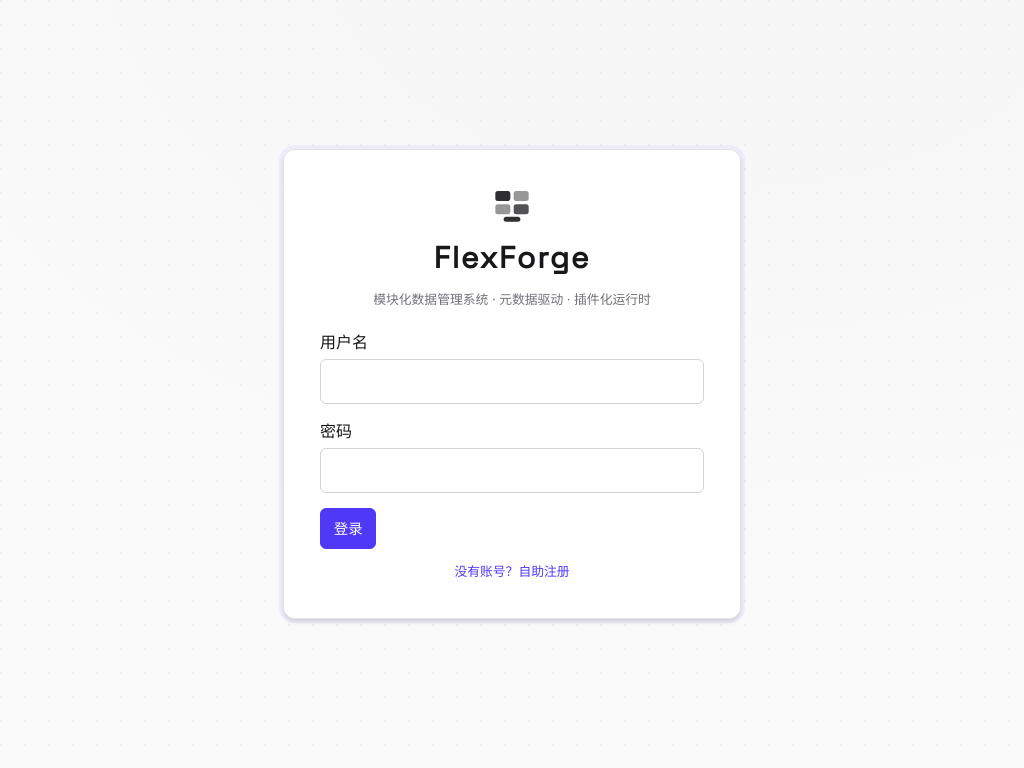
Test: LoginView 登录/注册切换（P13） › 注册失败在表单内提示（不跳转）
Click the link "没有账号？自助注册". click: (512, 571)
box: left=454, top=564, right=570, bottom=579
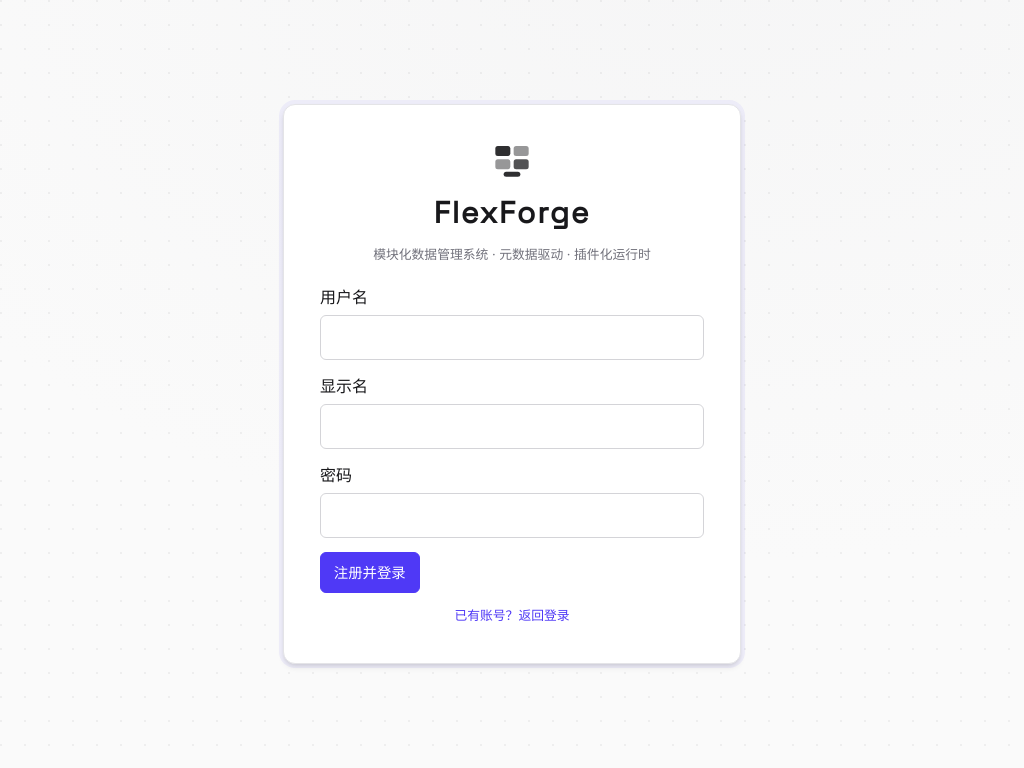
Type "newbie" into the field named "username". click: (512, 337)
box: left=320, top=314, right=704, bottom=360
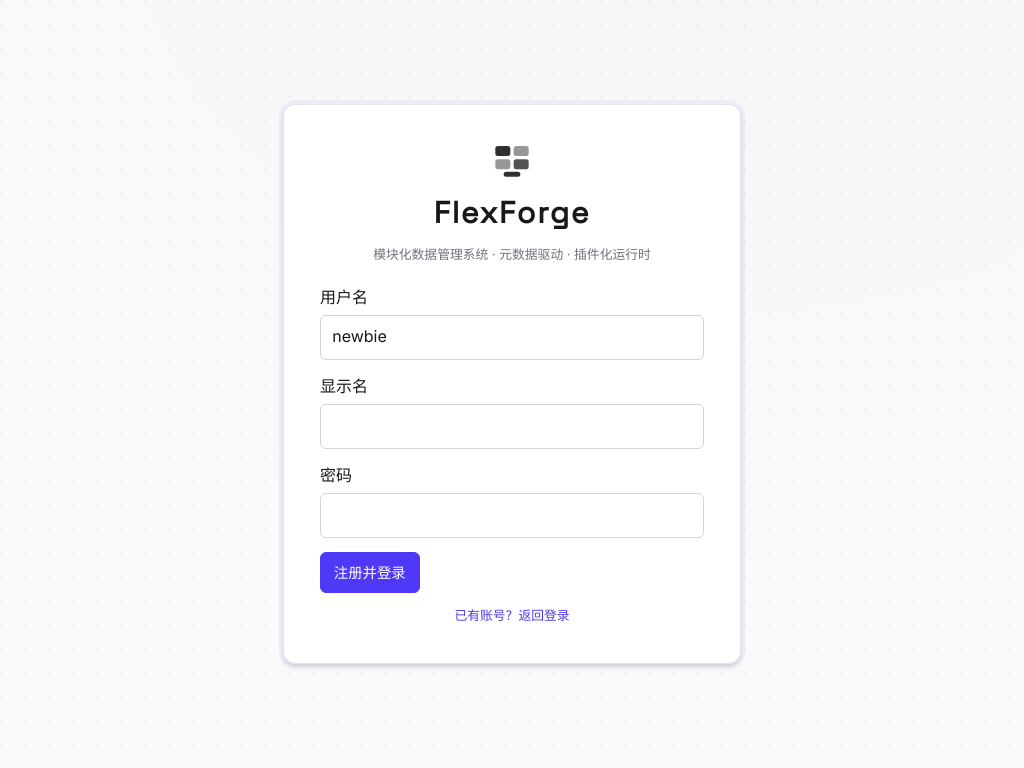
Type "Whatever-Pass-9" into the password field named "password". click: (512, 515)
box: left=320, top=493, right=704, bottom=538
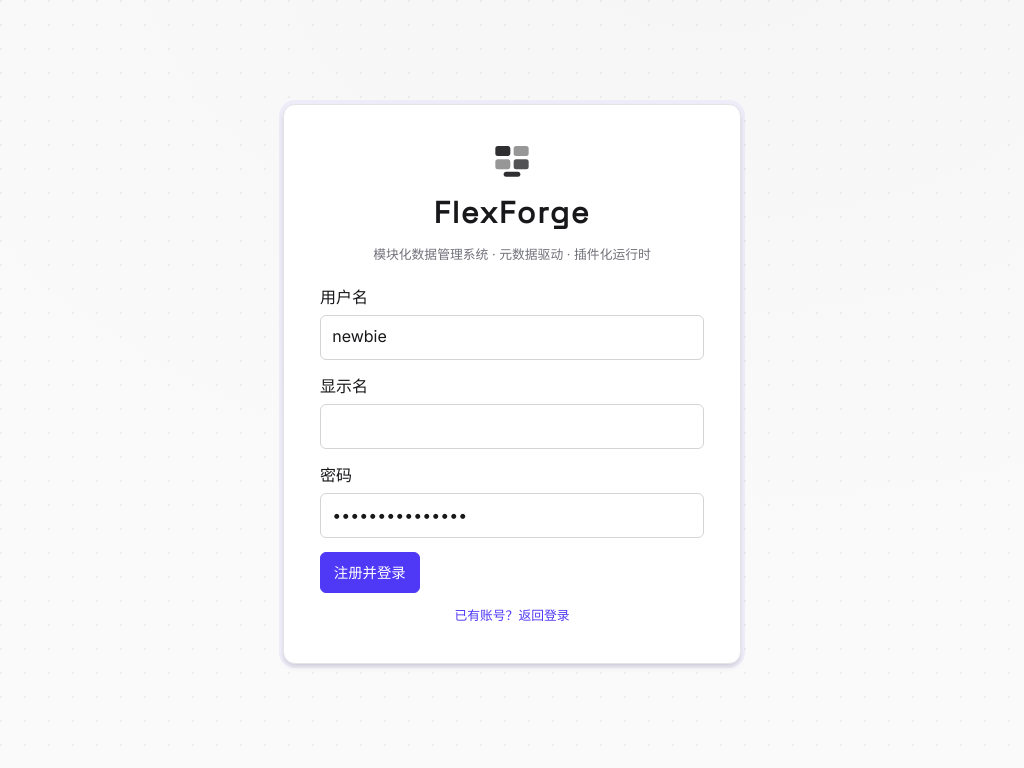
Submit the form, box left=320, top=285, right=704, bottom=594
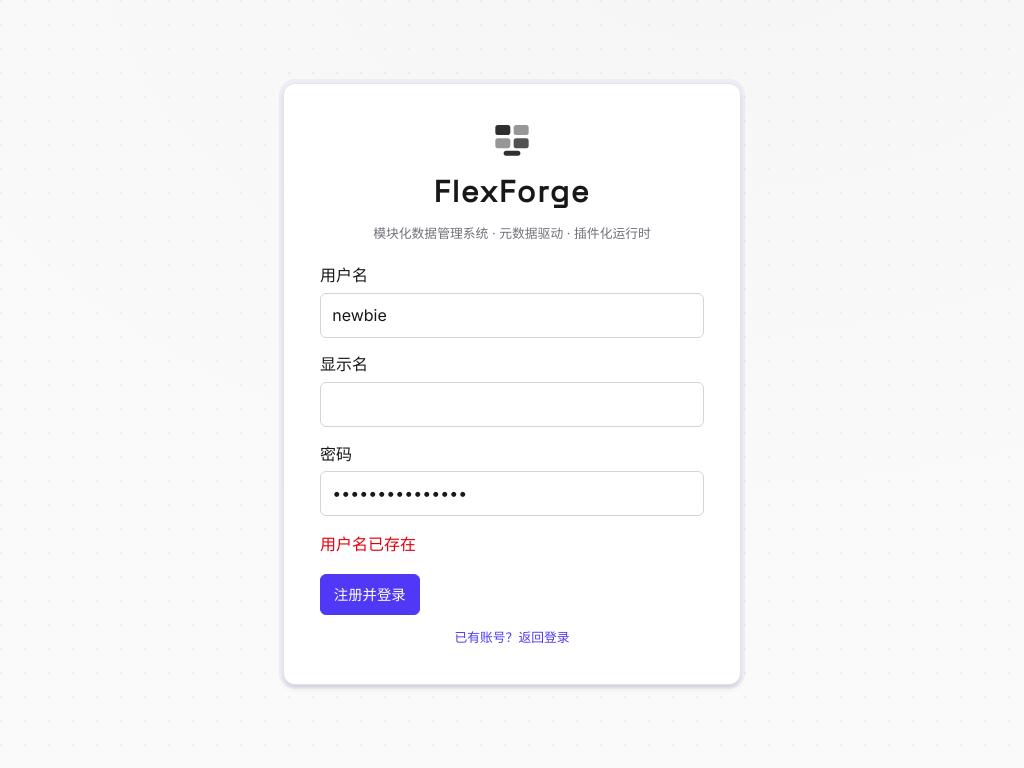
Result: the text "用户名已存在" is shown at left=320, top=534, right=416, bottom=554
